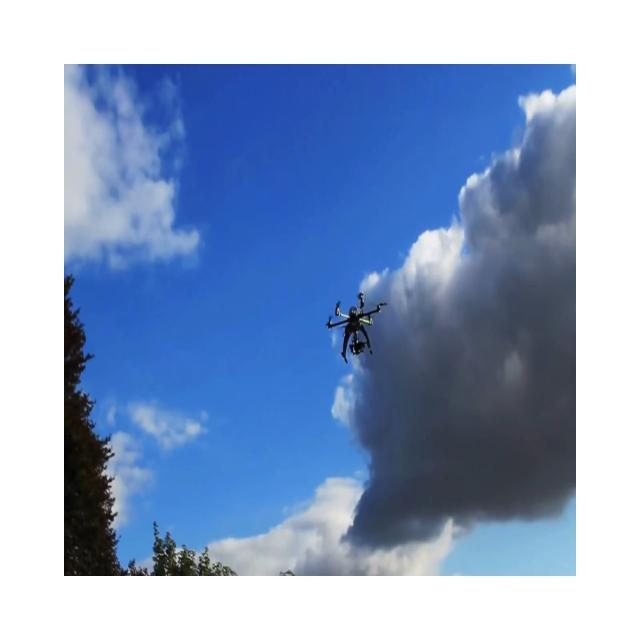drone: (325, 291, 388, 363)
